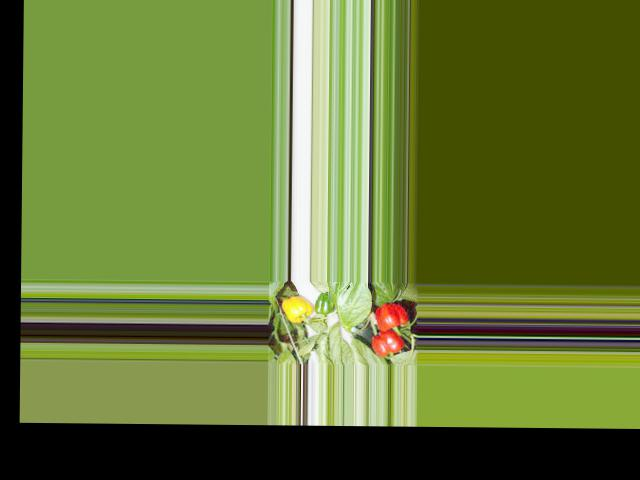bell_pepper: (278, 293, 314, 324)
